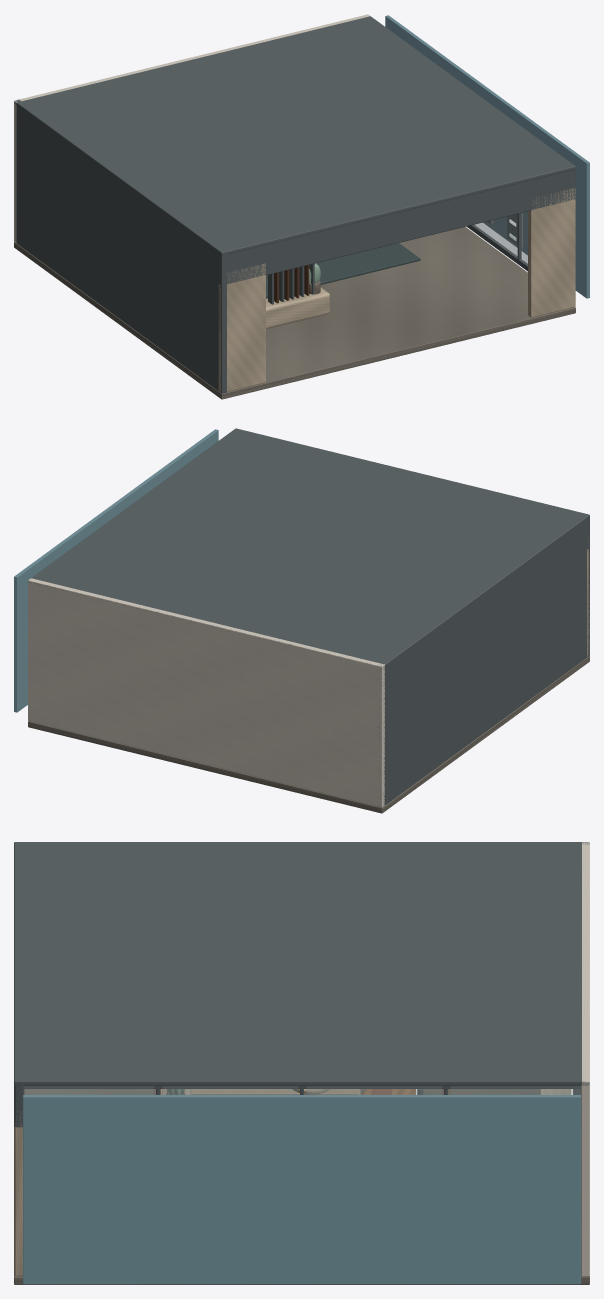
3 views of the same model, one above another, from view 1: azimuth 30°, elevation 25°; view 2: azimuth 150°, elevation 25°; view 3: azimuth 270°, elevation 25° (orthographic). The views are drawn at different scales.
Visible parts, largest first — view 1: PersonalV2_Ceiling, PersonalV2_LeftWall, PersonalV2_Floor, PersonalV2_FrontLintel, PersonalV2_ExteriorCity, PersonalV2_FrontRightPier, PersonalV2_FrontLeftPier, PersonalV2_Divider, PersonalV2_DeskRug, PersonalV2_WindowWall, PersonalV2_BackWall; view 2: PersonalV2_Ceiling, PersonalV2_BackWall, PersonalV2_LeftWall, PersonalV2_ExteriorCity, PersonalV2_Floor; view 3: PersonalV2_Ceiling, PersonalV2_ExteriorCity, PersonalV2_WindowWall, PersonalV2_BackWall, PersonalV2_Floor, PersonalV2_LeftWall, PersonalV2_FrontRightPier, PersonalV2_LoungeArchitecture.
Part boxes in pixels (x1,y1,x2,y2): PersonalV2_Ceiling: (14, 16, 575, 254); PersonalV2_LeftWall: (15, 99, 226, 393); PersonalV2_Floor: (14, 227, 575, 399); PersonalV2_FrontLintel: (218, 169, 575, 284); PersonalV2_ExteriorCity: (385, 15, 589, 298); PersonalV2_FrontRightPier: (528, 188, 575, 317); PersonalV2_FrontLeftPier: (218, 263, 265, 391); PersonalV2_Divider: (266, 263, 329, 329); PersonalV2_DeskRug: (266, 243, 420, 298); PersonalV2_WindowWall: (466, 211, 527, 271); PersonalV2_BackWall: (14, 14, 370, 242); PersonalV2_Ceiling: (28, 428, 589, 667); PersonalV2_BackWall: (28, 578, 384, 807); PersonalV2_LeftWall: (377, 513, 589, 806); PersonalV2_ExteriorCity: (14, 429, 218, 712); PersonalV2_Floor: (28, 656, 589, 813); PersonalV2_Ceiling: (14, 845, 589, 1085); PersonalV2_ExteriorCity: (23, 1095, 580, 1284); PersonalV2_WindowWall: (24, 1086, 580, 1094); PersonalV2_BackWall: (581, 842, 589, 1276); PersonalV2_Floor: (14, 1085, 589, 1284); PersonalV2_LeftWall: (14, 842, 589, 845); PersonalV2_FrontRightPier: (14, 1113, 22, 1276); PersonalV2_LoungeArchitecture: (191, 1089, 360, 1094).
Bounding box in the file's own units: 13.21 × 5 × 12.8.
Materials: 20 (10 with a texture image).
